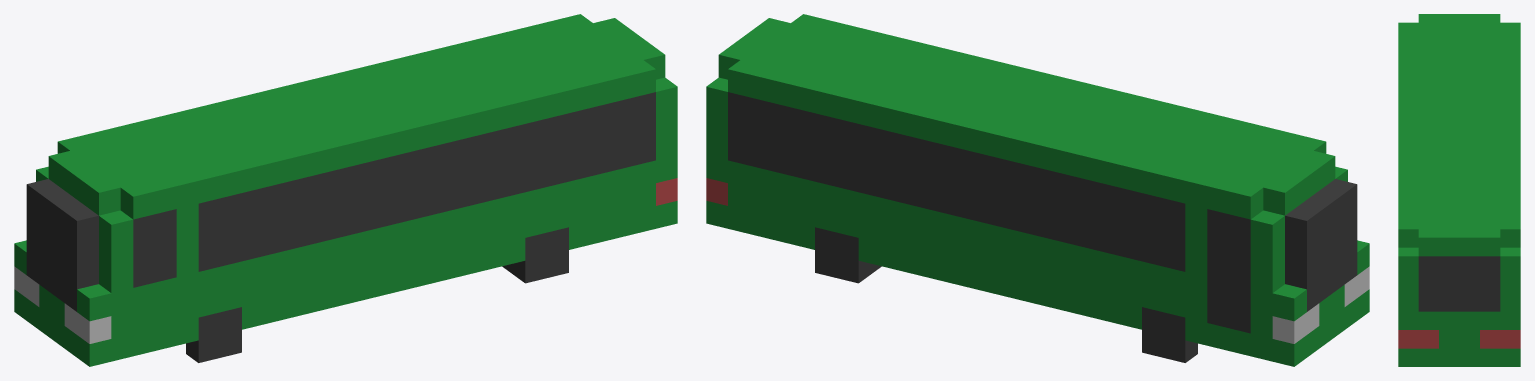
File: bus-big-green.gltf
3 renders of one model, left to right at view 1: azimuth 30°, elevation 25°; view 2: azimuth 150°, elevation 25°; view 3: azimuth 270°, elevation 25°, orthographic. The views are drawn at different scales.
Parts seen in each view (by area): view 1: model, wheels; view 2: model, wheels; view 3: model.
Boxes of the visible parts, x1,y1,x2,y2 form: model: (14, 14, 677, 366); wheels: (186, 227, 568, 362); model: (706, 14, 1369, 366); wheels: (815, 227, 1197, 362); model: (1398, 14, 1520, 366).
Size of the model in its own units: 2.7 by 0.8 by 0.6.
Materials: 2 (2 with a texture image).
